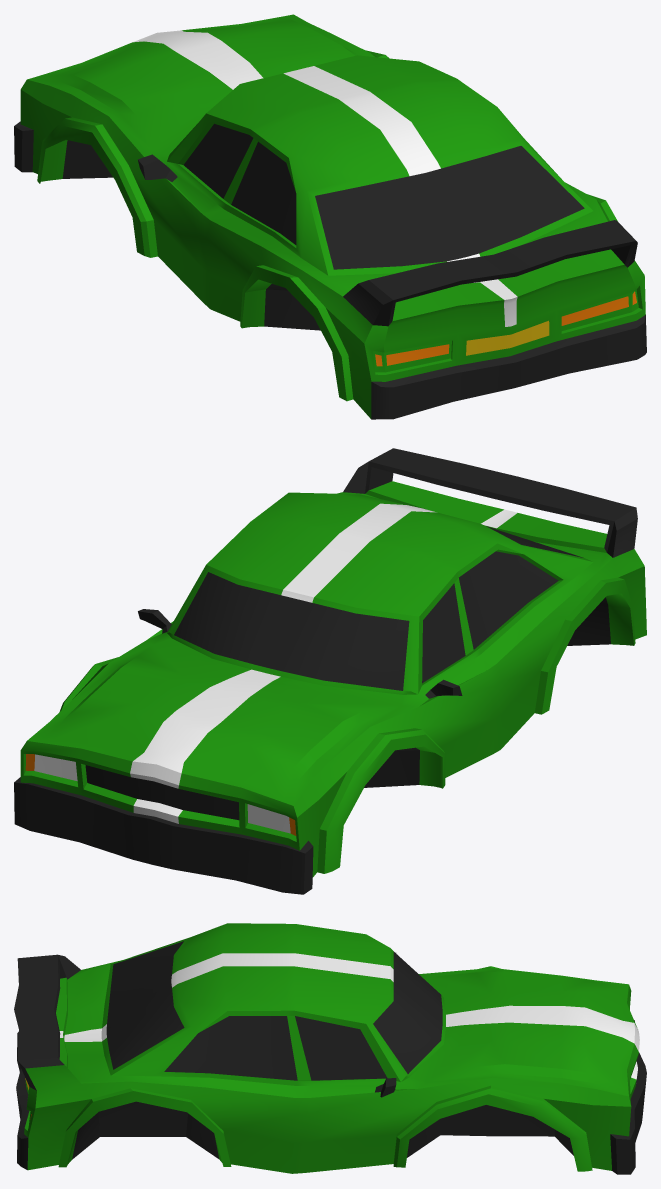
The model's file is sedan_body2.glb.
3 renders of one model, top to bottom at view 1: azimuth 30°, elevation 25°; view 2: azimuth 150°, elevation 25°; view 3: azimuth 270°, elevation 25°, orthographic. The views are drawn at different scales.
Parts seen in each view (by area): view 1: sedan_body.001; view 2: sedan_body.001; view 3: sedan_body.001.
Part boxes in pixels (x1,y1,x2,y2): sedan_body.001: (14,14,646,419); sedan_body.001: (14,448,646,894); sedan_body.001: (14,923,646,1174).
Size of the model in its own units: 1.59 by 0.8538 by 3.15.
Materials: 1 (1 with a texture image).
